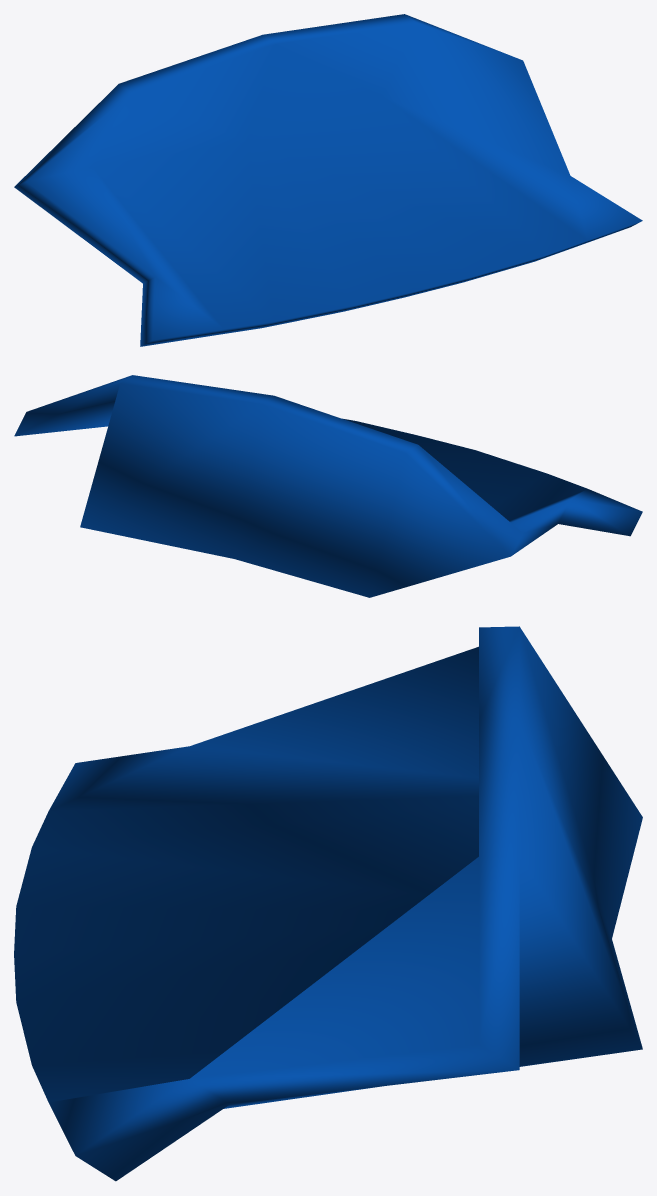
Rendered from hood1.fbx.
3 renders of one model, top to bottom at view 1: azimuth 30°, elevation 25°; view 2: azimuth 150°, elevation 25°; view 3: azimuth 270°, elevation 25°, orthographic. The views are drawn at different scales.
Parts seen in each view (by area): view 1: BodyMain.002; view 2: BodyMain.002; view 3: BodyMain.002.
Boxes of the visible parts, box(x1,y1,x2,y2) form: BodyMain.002: box(14, 14, 642, 346); BodyMain.002: box(14, 375, 642, 597); BodyMain.002: box(14, 626, 642, 1181).
Size of the model in its own units: 71.6 by 22.35 by 47.82.
